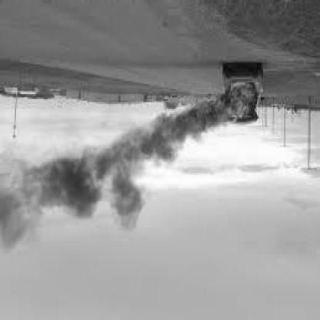Fire: (197, 72, 263, 146)
Smoke: (7, 102, 207, 252)
